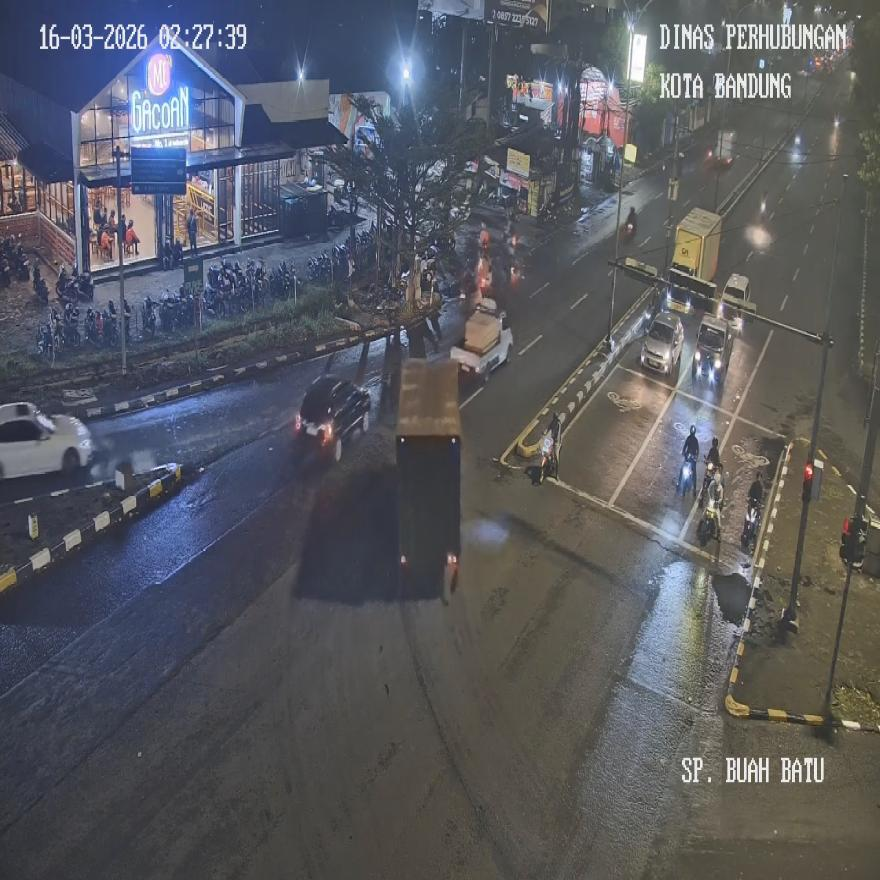Mobil: (0, 402, 94, 479), (293, 375, 371, 461), (450, 298, 512, 380), (692, 315, 733, 384), (640, 312, 684, 375), (722, 272, 751, 300), (739, 283, 739, 284)
Motor: (698, 467, 723, 545), (740, 472, 763, 551), (538, 411, 561, 480), (677, 425, 698, 495), (698, 438, 719, 507), (475, 251, 492, 293), (504, 219, 515, 248), (625, 207, 637, 233)
Truk menengah: (395, 358, 461, 594)
